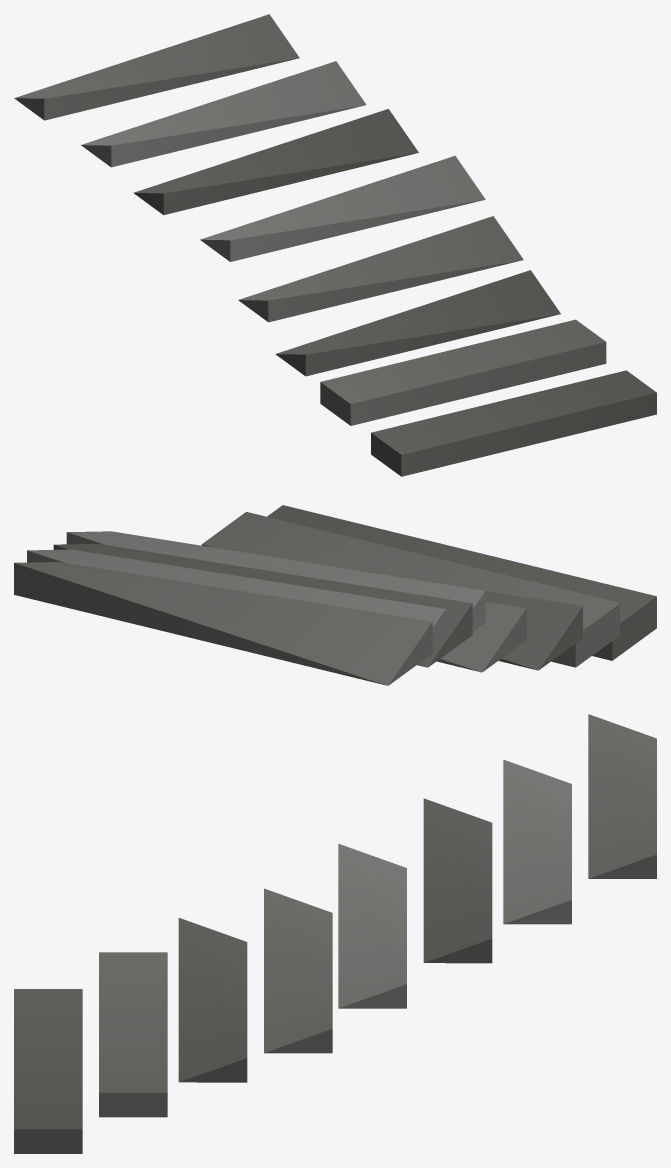
3 renders of one model, top to bottom at view 1: azimuth 30°, elevation 25°; view 2: azimuth 150°, elevation 25°; view 3: azimuth 270°, elevation 25°, orthographic. The views are drawn at different scales.
Visible parts, largest first — view 1: Stairs_0; view 2: Stairs_0; view 3: Stairs_0.
Part boxes in pixels (x1,y1,x2,y2): Stairs_0: (14,14,656,476); Stairs_0: (14,505,656,685); Stairs_0: (14,714,656,1153).
Bounding box in the file's own units: 6.59 × 3.81 × 9.11.
Materials: 1 (1 with a texture image).
